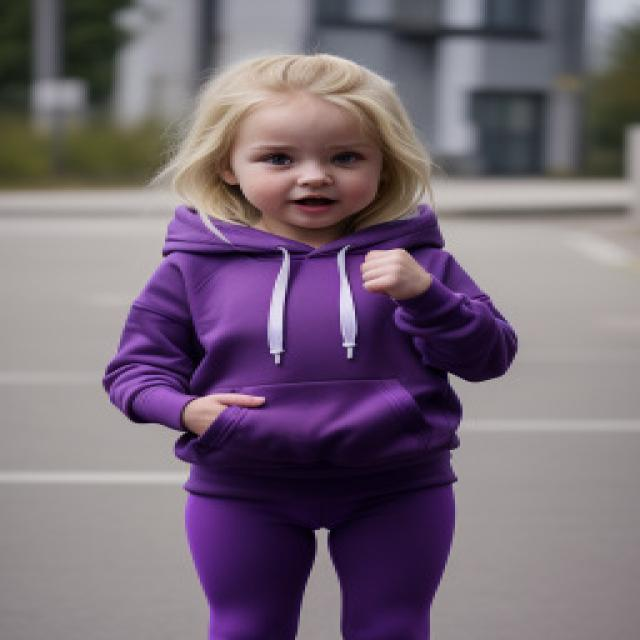Ai human 2: (89, 39, 538, 640)
